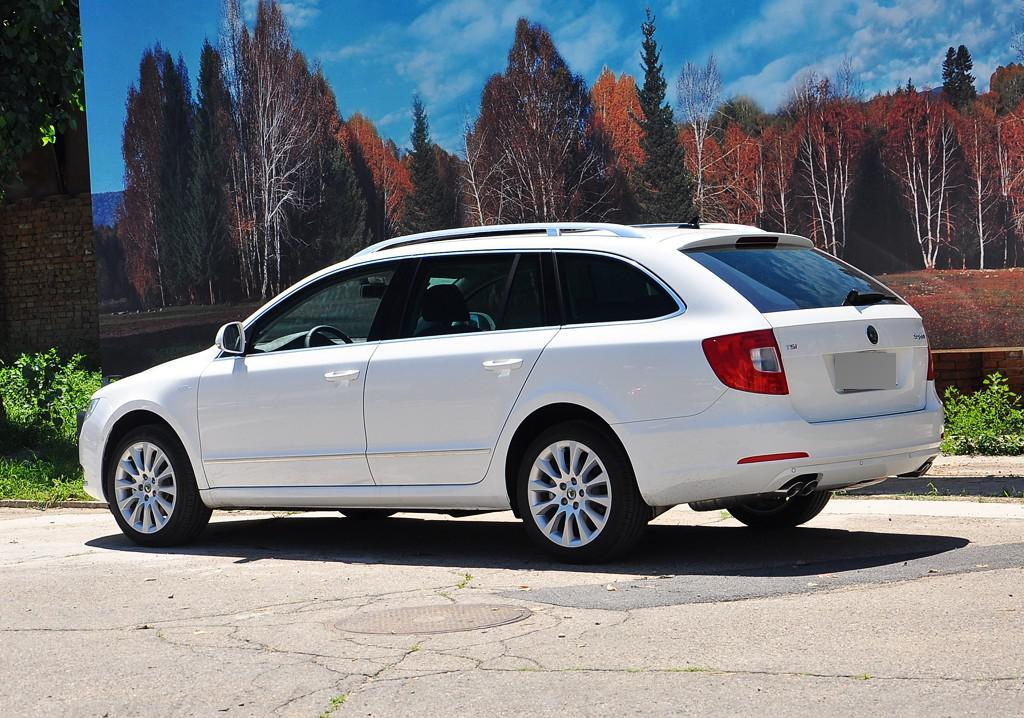Wagon: (74, 223, 944, 566)
